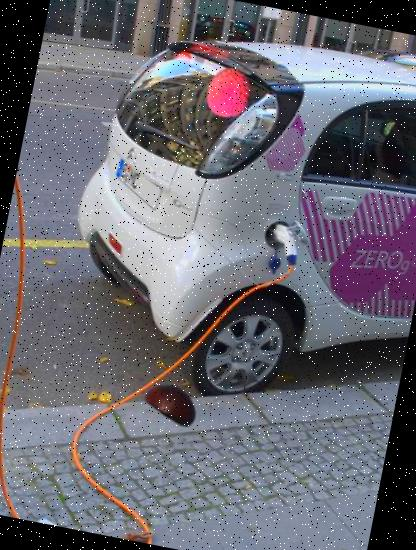Chestnut: (139, 368, 207, 436)
Lychee: (198, 62, 258, 123)
